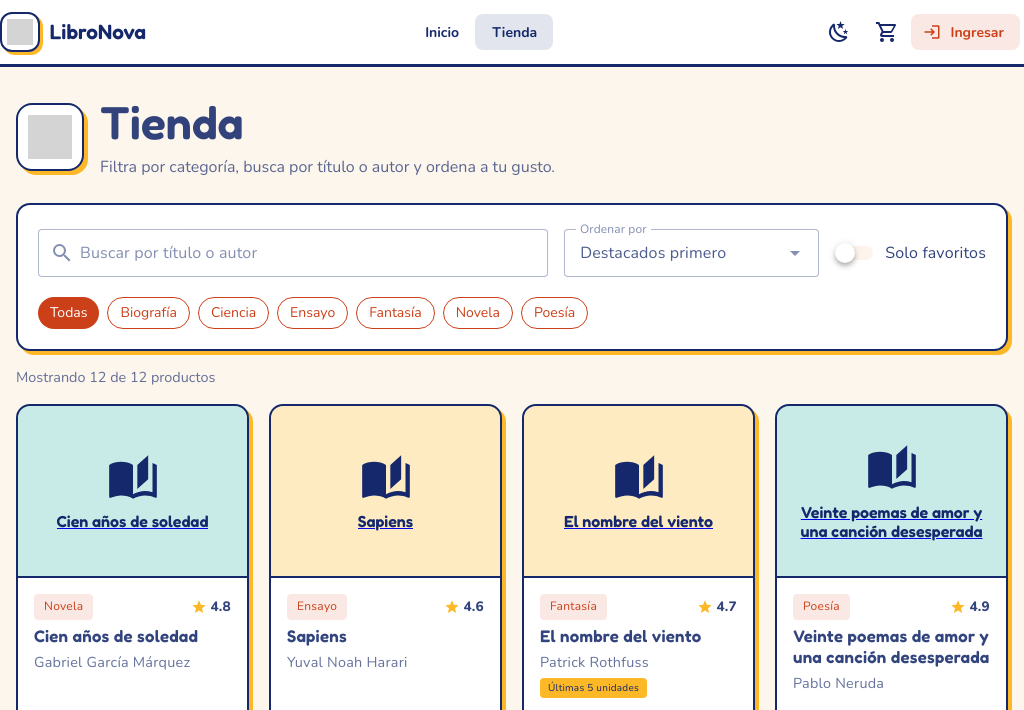
Test case: Tienda: catálogo de productos › busca por texto y muestra "sin resultados" con opción de limpiar
Type "zzzzzz" into the search field labelled "Buscar por título o autor" at (305, 253), box [74,229,536,277]
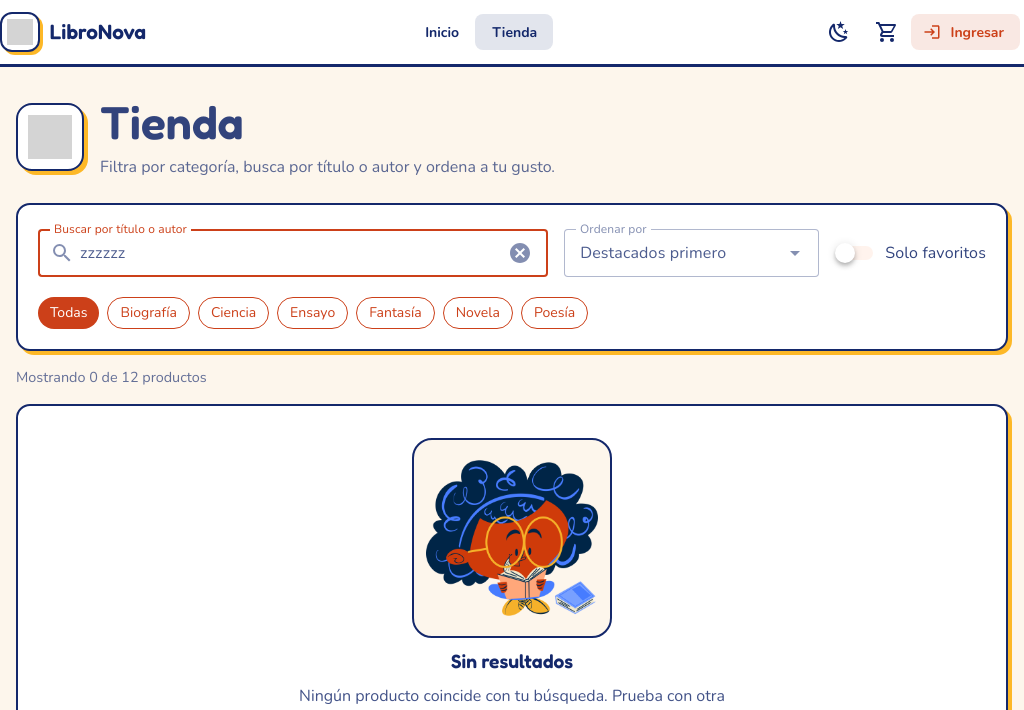
Expected: the heading with test id "estado-vacio" reads "Sin resultados", [451,649,573,673]
Scroll
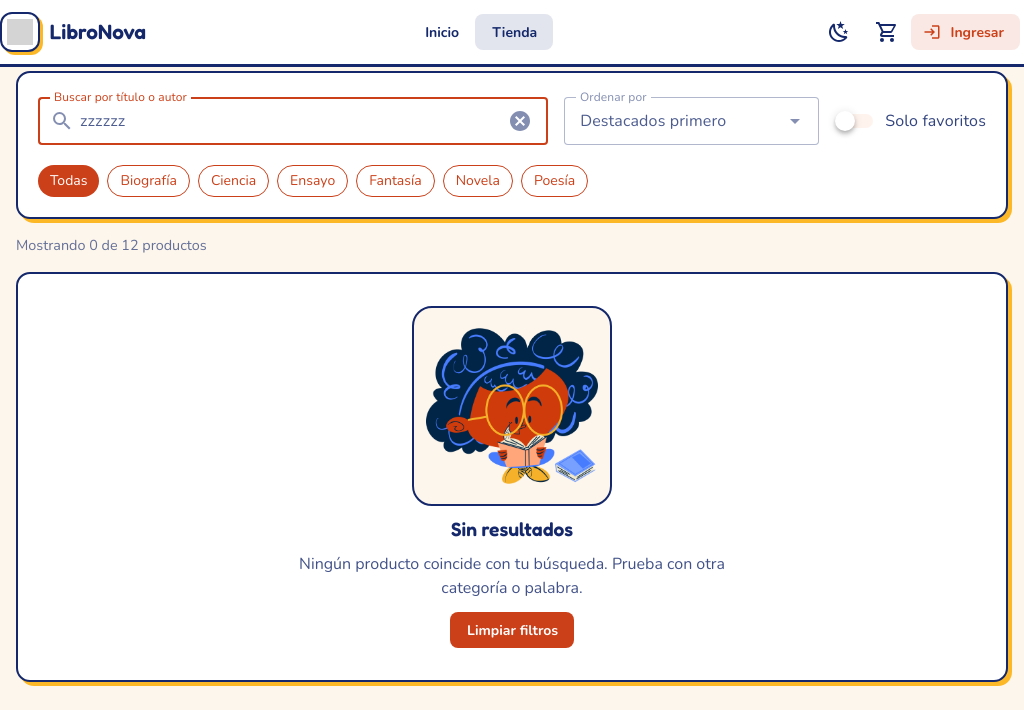
Click the button "Limpiar filtros" at (512, 630), box [450,612,574,648]
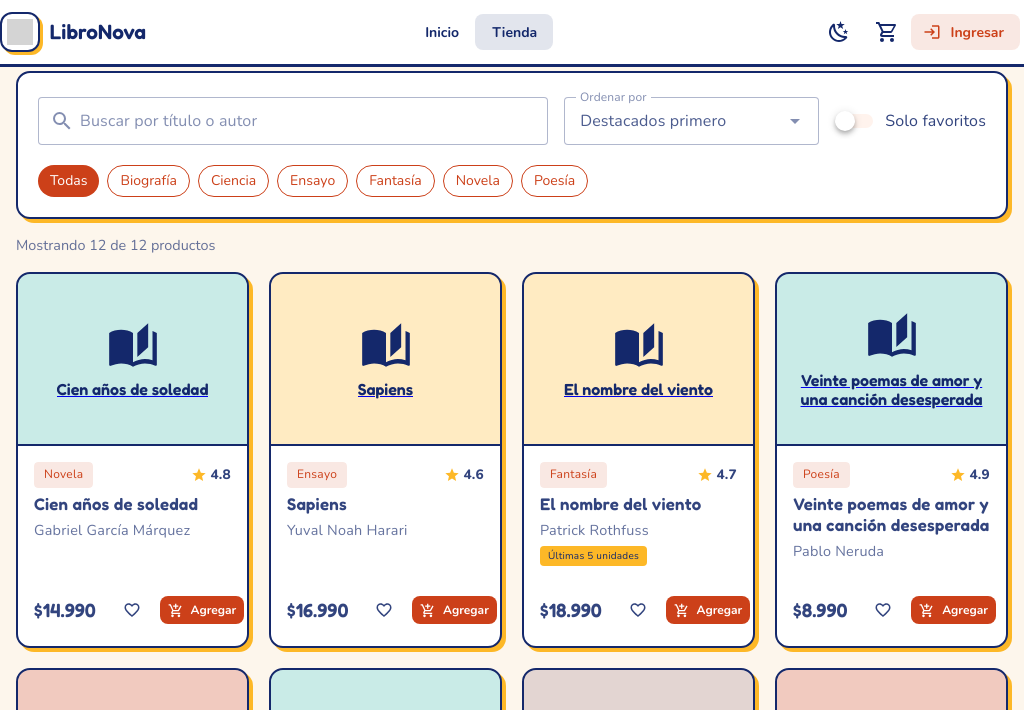
Expected: the number of elements with test id "producto-card" is more than 0
